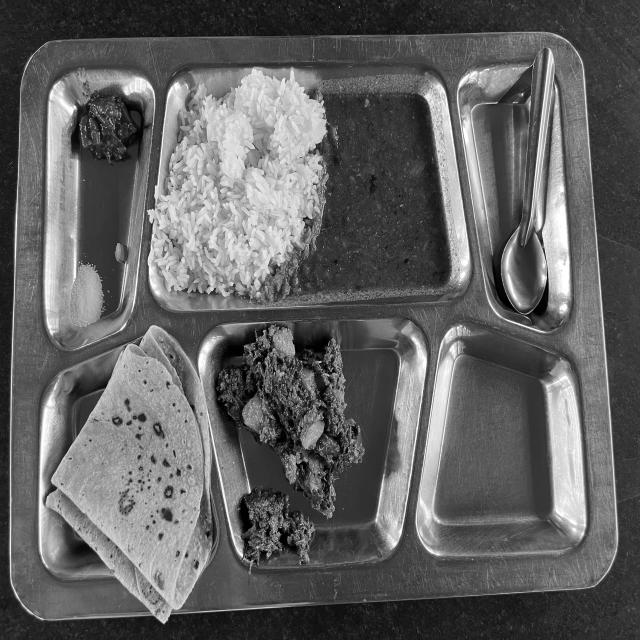70.8- Food Left: (37, 49, 606, 582)
